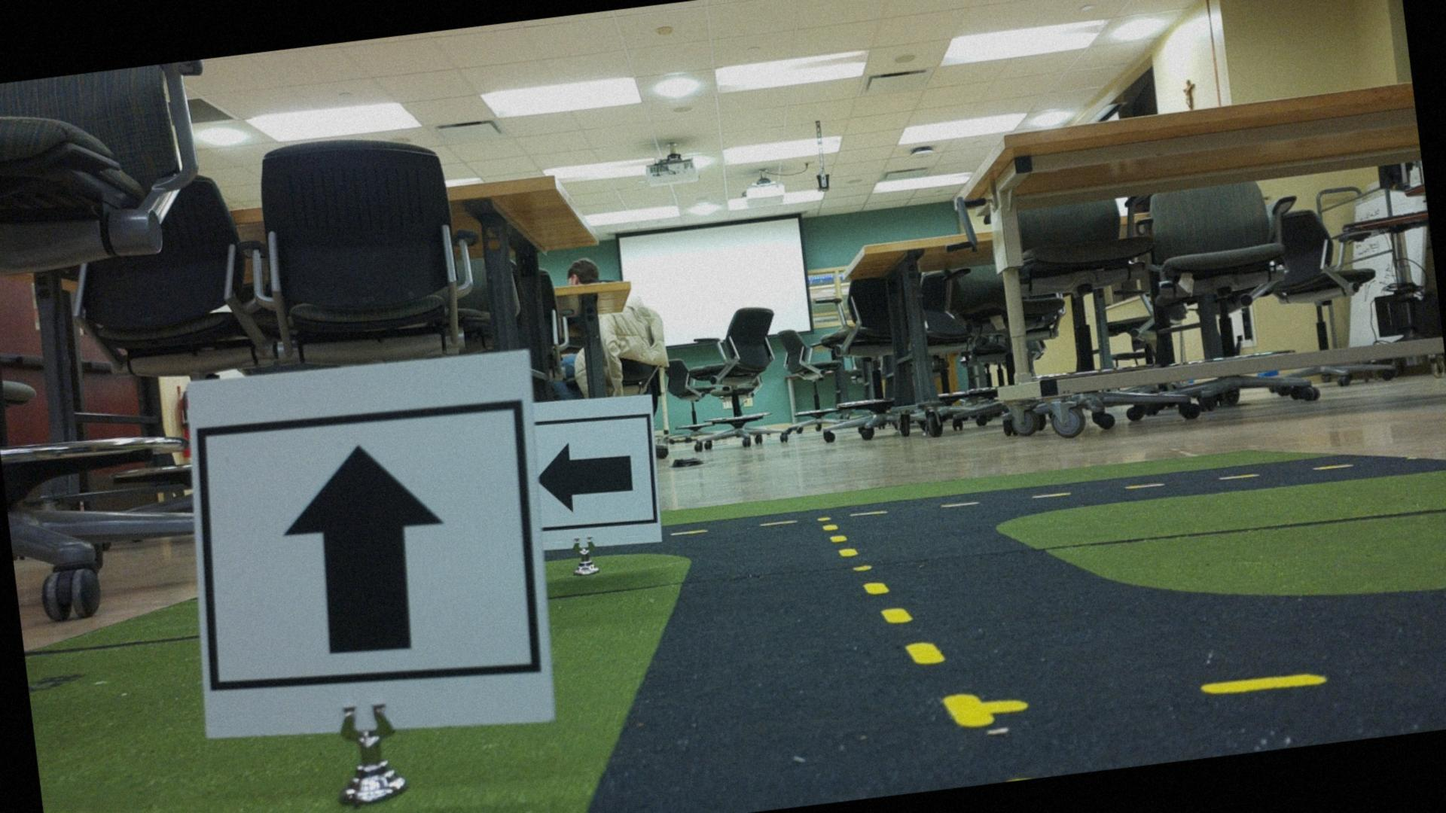gostraight: (194, 354, 553, 748)
turnleft: (528, 411, 659, 548)
yellowline: (825, 507, 990, 741)
